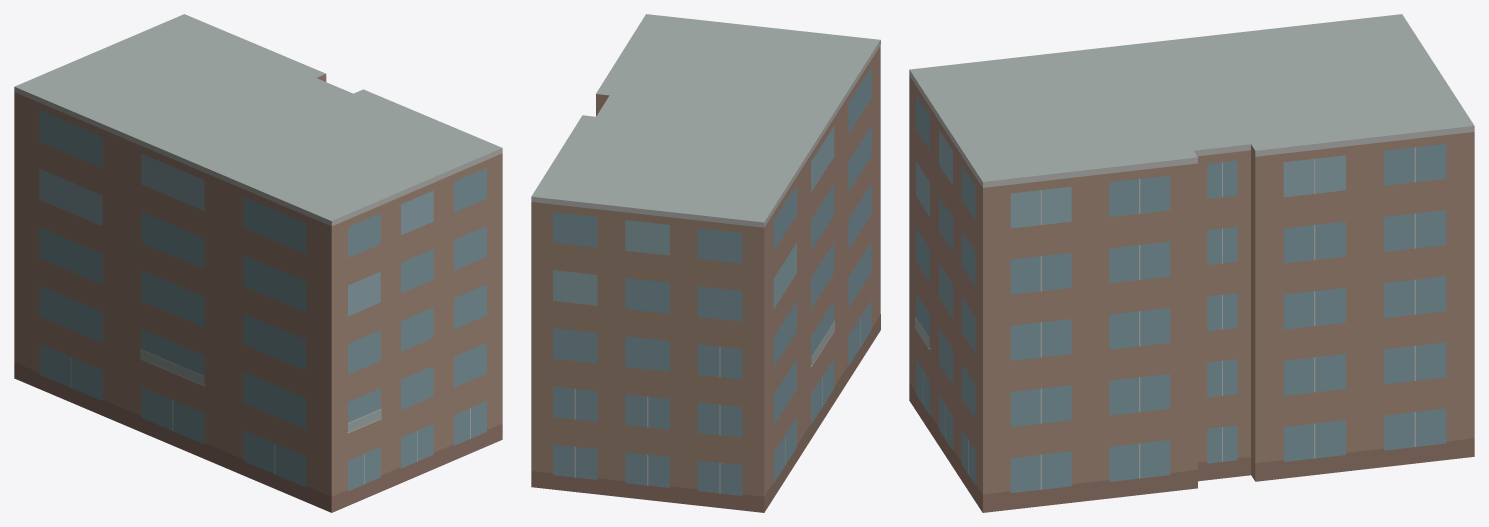
The model's file is survey-upis-32490142.glb.
3 views of the same model, side by side, from view 1: azimuth 30°, elevation 25°; view 2: azimuth 150°, elevation 25°; view 3: azimuth 270°, elevation 25° (orthographic). The views are drawn at different scales.
Visible parts, largest first — view 1: survey-upis-32490142.tmp; view 2: survey-upis-32490142.tmp; view 3: survey-upis-32490142.tmp.
Part boxes in pixels (left/top/right/bottom): survey-upis-32490142.tmp: left=14, top=14, right=502, bottom=512; survey-upis-32490142.tmp: left=531, top=14, right=880, bottom=512; survey-upis-32490142.tmp: left=909, top=14, right=1474, bottom=512.
Size of the model in its own units: 14.77 by 13.55 by 20.99.
